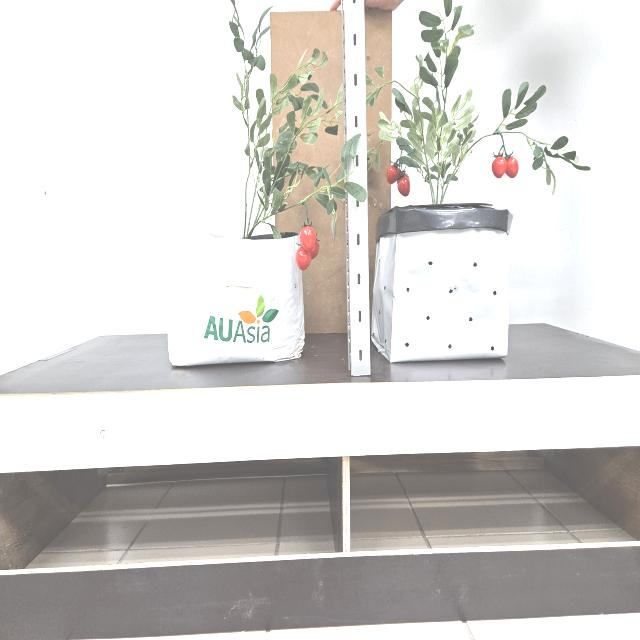Soilbag: (370, 205, 510, 363), (167, 230, 309, 370)
Tomato: (386, 146, 414, 200), (295, 225, 321, 274), (490, 150, 522, 182)
plant: (366, 6, 577, 205), (229, 0, 367, 271)
